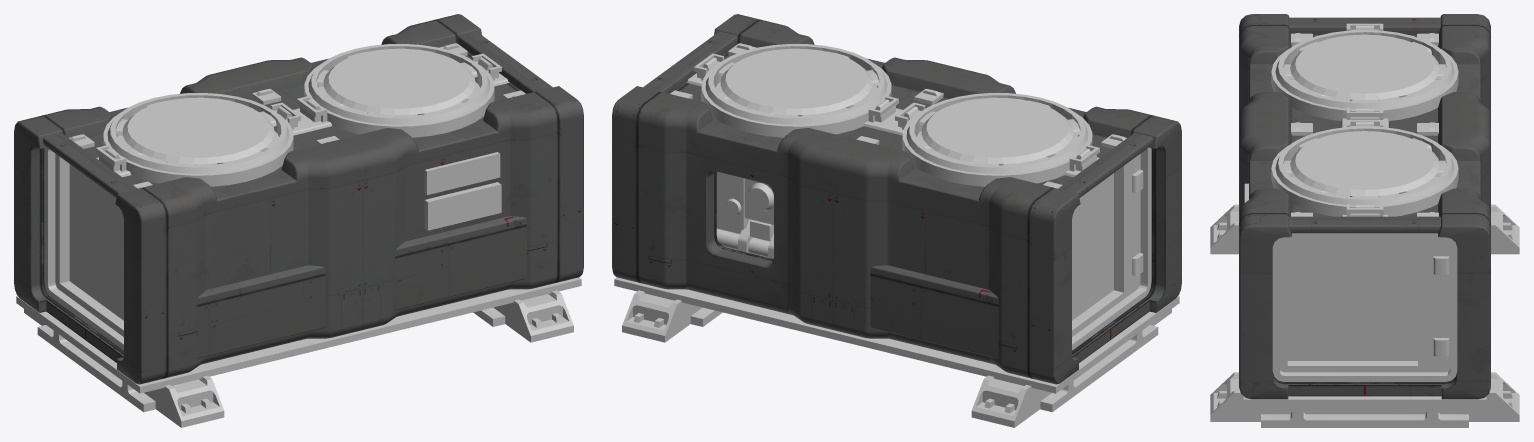
File: Prop8.fbx
3 renders of one model, left to right at view 1: azimuth 30°, elevation 25°; view 2: azimuth 150°, elevation 25°; view 3: azimuth 270°, elevation 25°, orthographic.
Parts seen in each view (by area): view 1: pCube157; view 2: pCube157; view 3: pCube157.
Part boxes in pixels (bbox=[...]): pCube157: bbox=[14, 14, 583, 427]; pCube157: bbox=[612, 14, 1181, 427]; pCube157: bbox=[1210, 14, 1519, 427].
Bounding box in the file's own units: 253 × 119 × 155.
